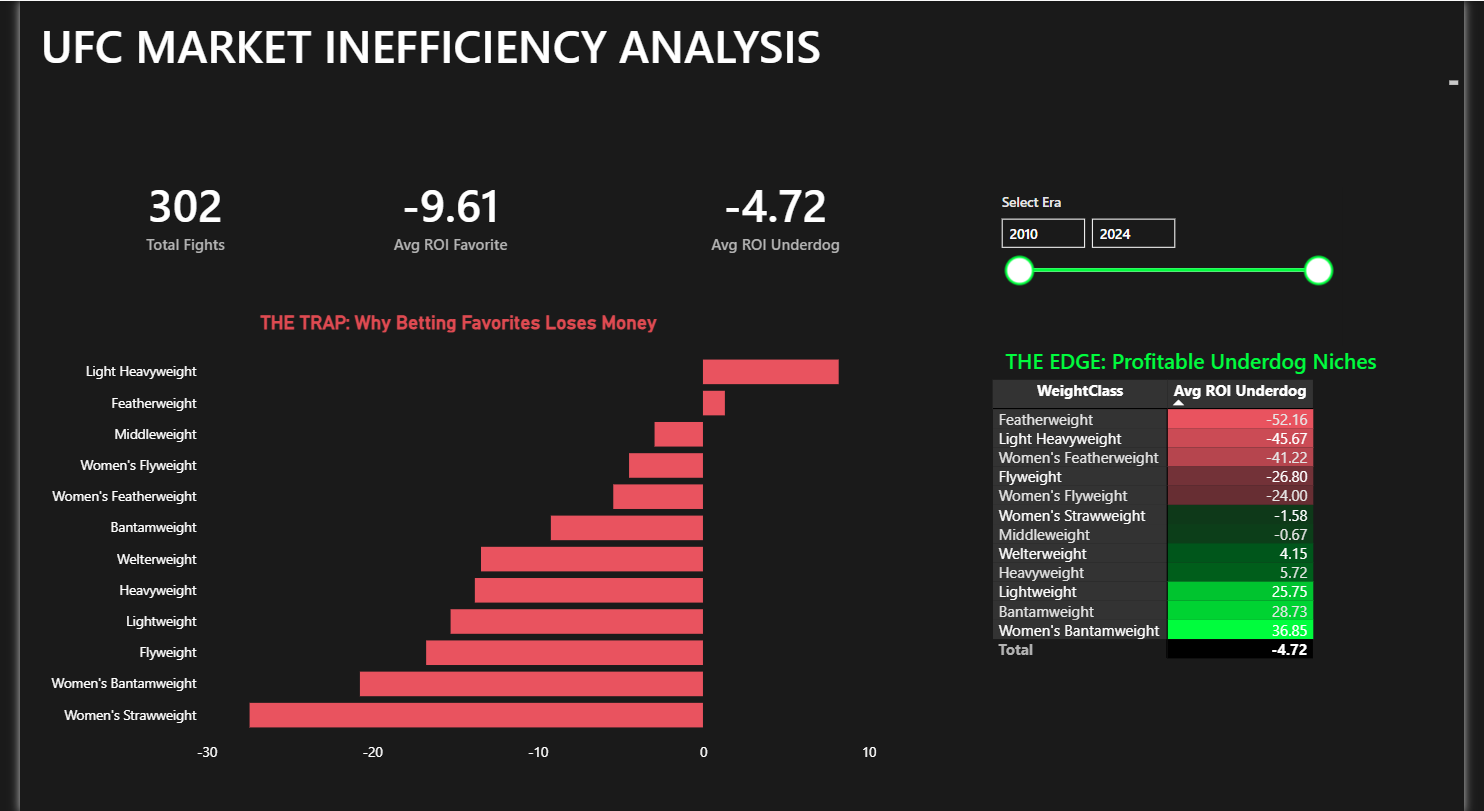

This screenshot's page, from the dashboard's own definition file:
{"tool":"powerbi","page":{"name":"Page 1","canvas":[1280,720],"ordinal":0},"visuals":[{"type":"card","title":"Total Fights","fields":{"Values":["UFC_Master_Cleaned.Total Fights"]},"box":[62.1,112.6,169.4,151.6],"z":0},{"type":"card","fields":{"Values":["UFC_Master_Cleaned.Avg ROI Favorite"]},"box":[287.3,112.6,188.9,151.6],"z":1},{"type":"card","fields":{"Values":["UFC_Master_Cleaned.Avg ROI Underdog"]},"box":[575.5,112.6,188.9,151.6],"z":2},{"type":"clusteredBarChart","title":"THE TRAP: Why Betting Favorites Loses Money","fields":{"Category":["UFC_Master_Cleaned.WeightClass"],"Y":["UFC_Master_Cleaned.Avg ROI Favorite"]},"box":[13.3,274.9,751,409.7],"z":3},{"type":"pivotTable","title":"THE EDGE: Profitable Underdog Niches","fields":{"Rows":["UFC_Master_Cleaned.WeightClass"],"Values":["UFC_Master_Cleaned.Avg ROI Underdog"]},"box":[857.4,305.9,361.8,294.4],"z":4},{"type":"slicer","fields":{"Values":["UFC_Master_Cleaned.Year"]},"box":[857.4,164.9,314.8,141],"z":5},{"type":"textbox","title":"UFC MARKET INEFFICIENCY ANALYSIS","box":[13.3,12.4,1267.1,67.4],"z":6}]}

Visuals, with their boxes in screenshot pixels (x1, y1, x2, y2), scaled from the page's 1280x720 canvas onto the 1484x811 screenshot:
"Total Fights" card: locate(72, 127, 268, 298)
card - UFC_Master_Cleaned.Avg ROI Favorite: locate(333, 127, 552, 298)
card - UFC_Master_Cleaned.Avg ROI Underdog: locate(667, 127, 886, 298)
"THE TRAP: Why Betting Favorites Loses Money" clusteredBarChart: locate(15, 310, 886, 771)
"THE EDGE: Profitable Underdog Niches" pivotTable: locate(994, 345, 1414, 676)
slicer - UFC_Master_Cleaned.Year: locate(994, 186, 1359, 345)
"UFC MARKET INEFFICIENCY ANALYSIS" textbox: locate(15, 14, 1483, 90)
